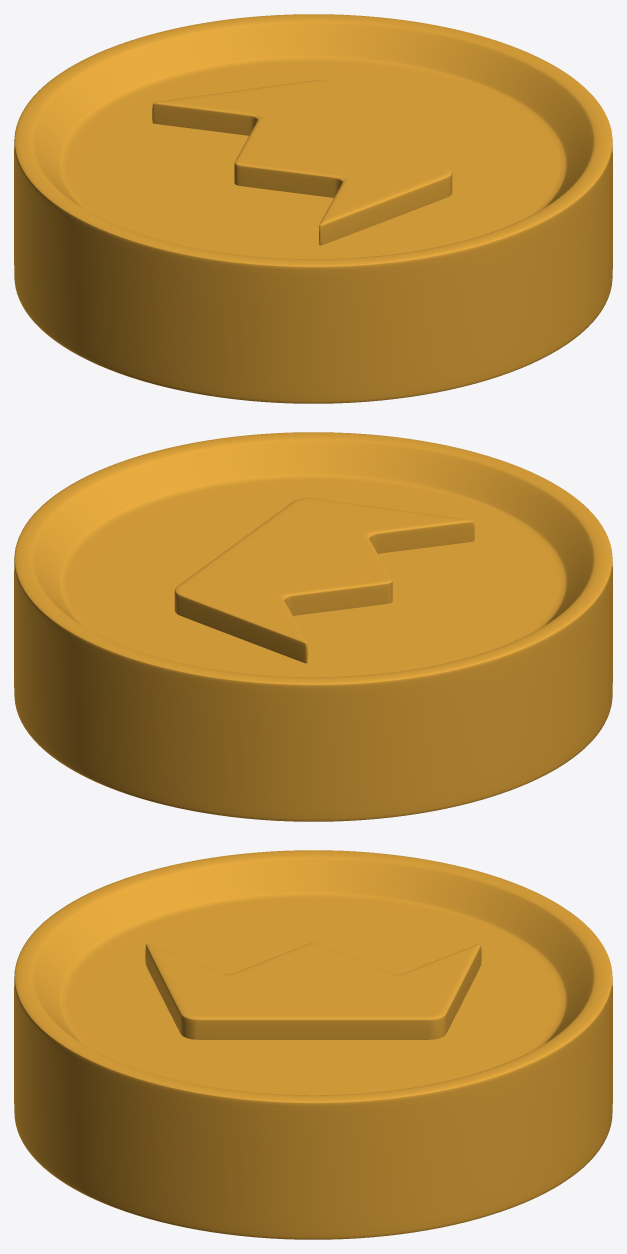
File: монета.fbx
The picture shows the model from 3 angles, top to bottom: view 1: azimuth 30°, elevation 25°; view 2: azimuth 150°, elevation 25°; view 3: azimuth 270°, elevation 25°; orthographic projection.
Visible parts, largest first — view 1: монета; view 2: монета; view 3: монета.
Part boxes in pixels (<box>): монета: <box>14,14,612,403</box>; монета: <box>14,432,612,821</box>; монета: <box>14,850,612,1239</box>.
Size of the model in its own units: 199 by 50.97 by 199.
